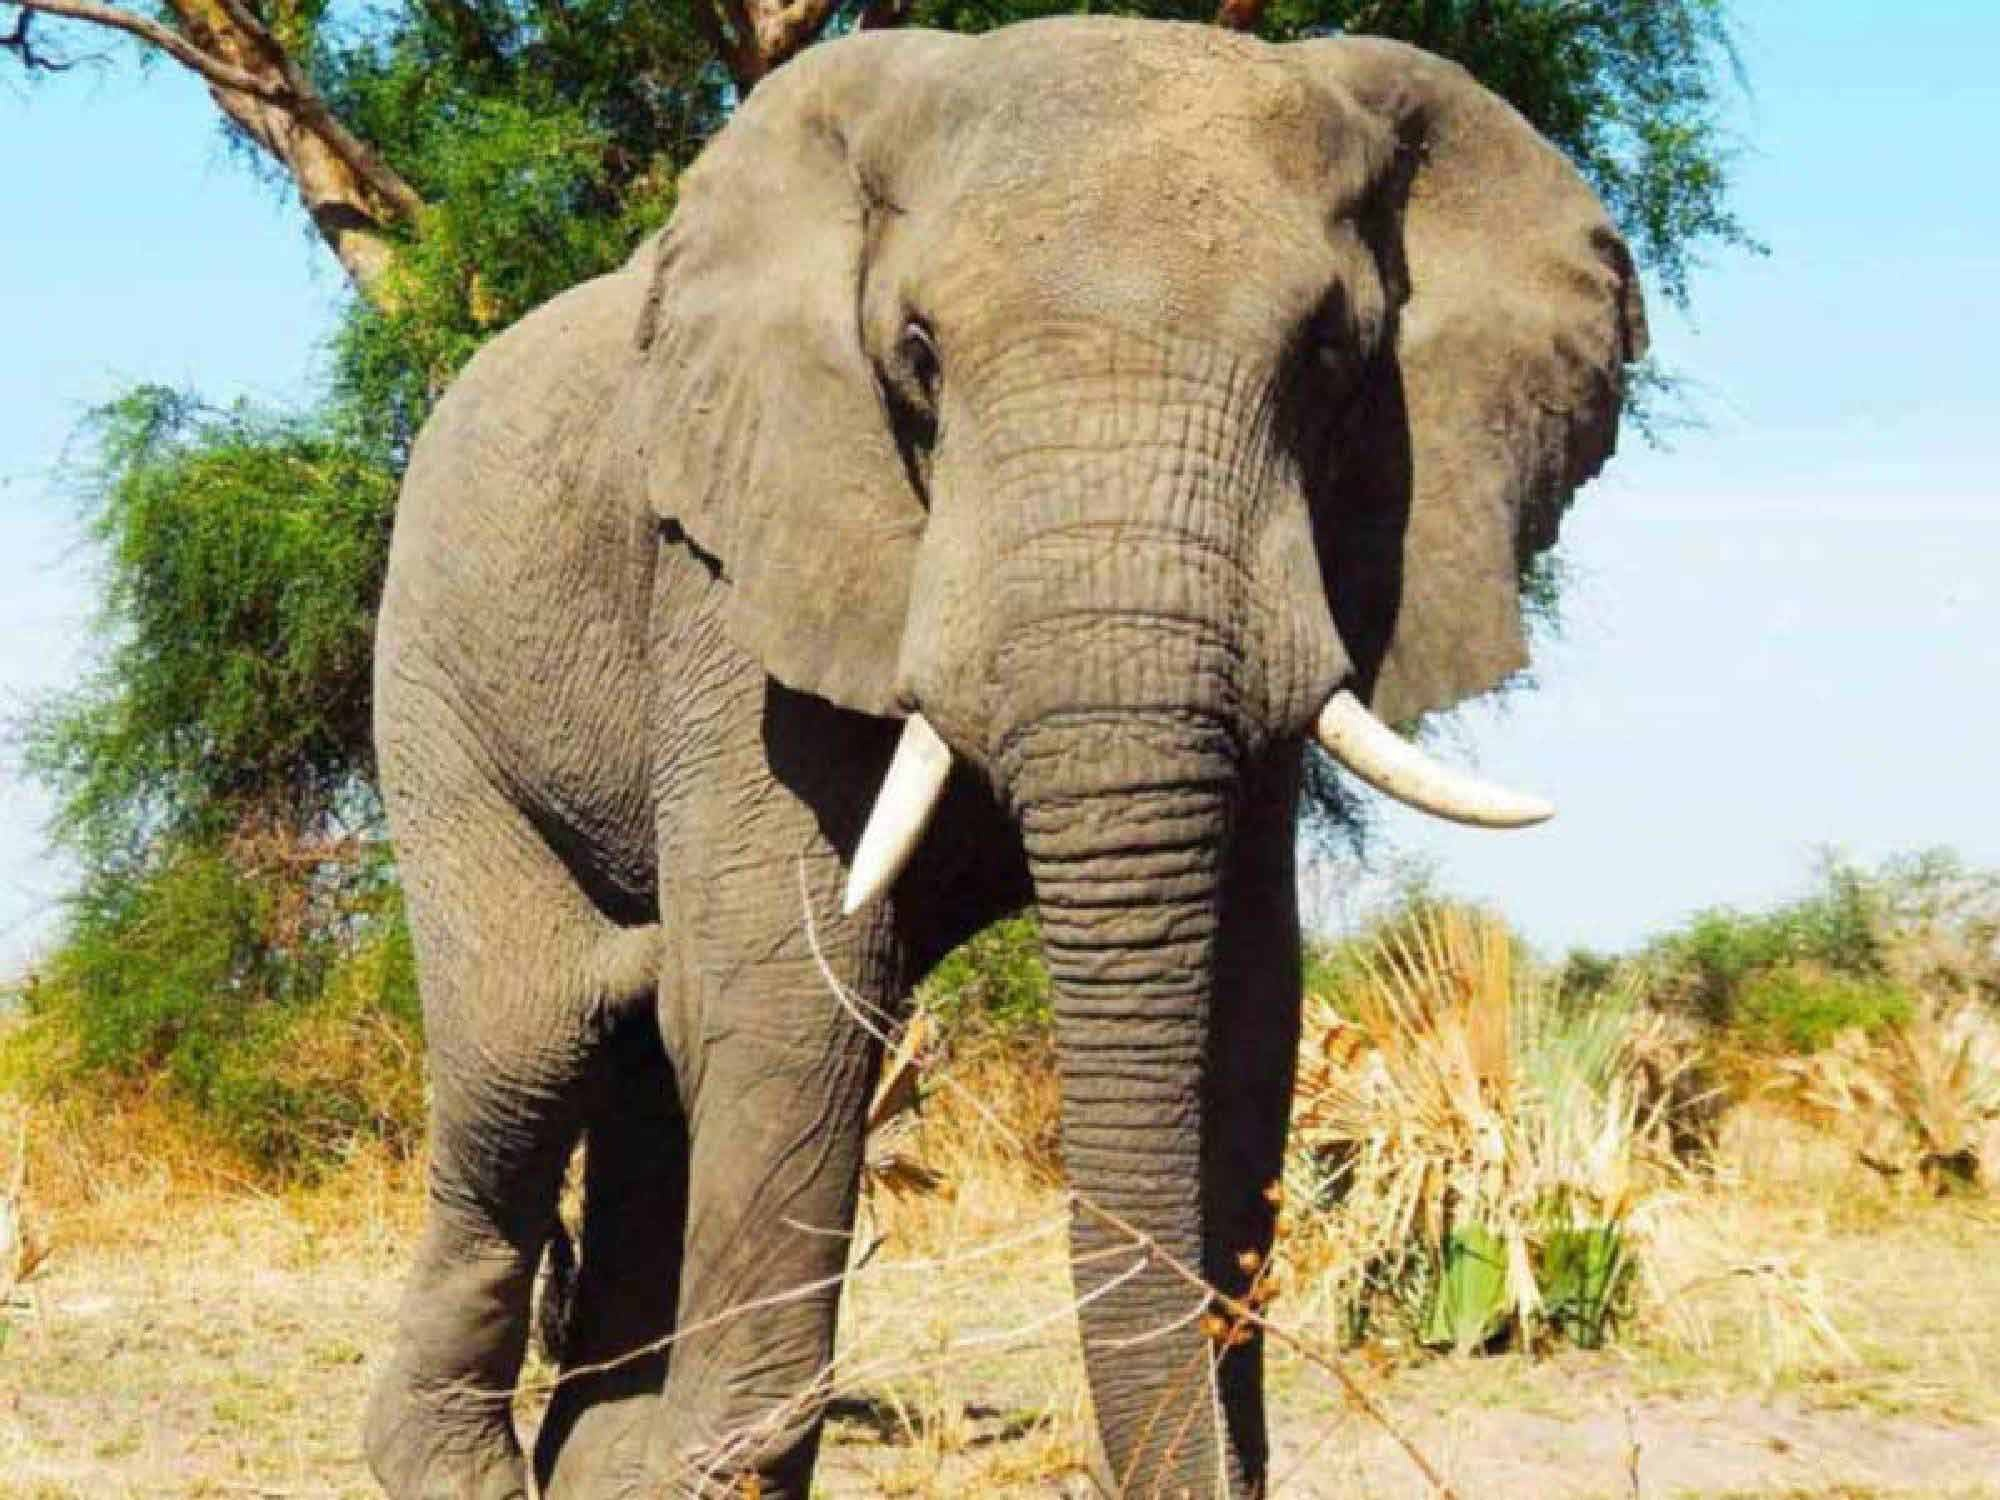elephant: (339, 9, 1654, 1498)
